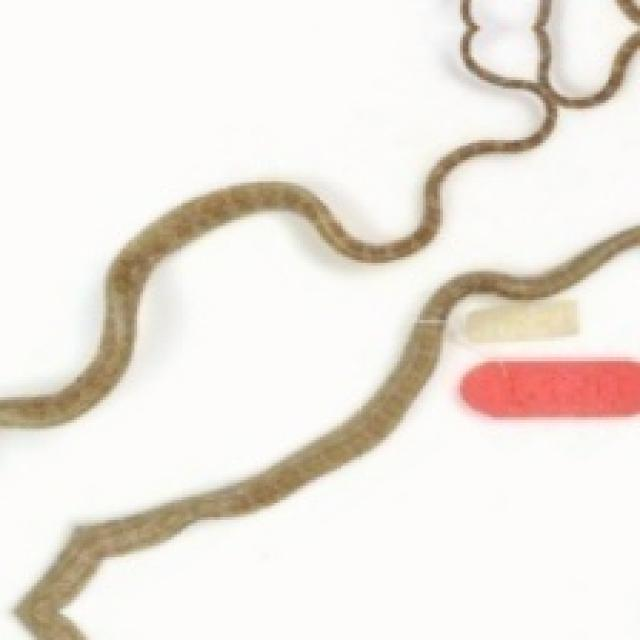mullers wolf snake: (0, 54, 637, 637), (66, 249, 637, 637), (0, 0, 540, 394), (549, 0, 634, 94)
